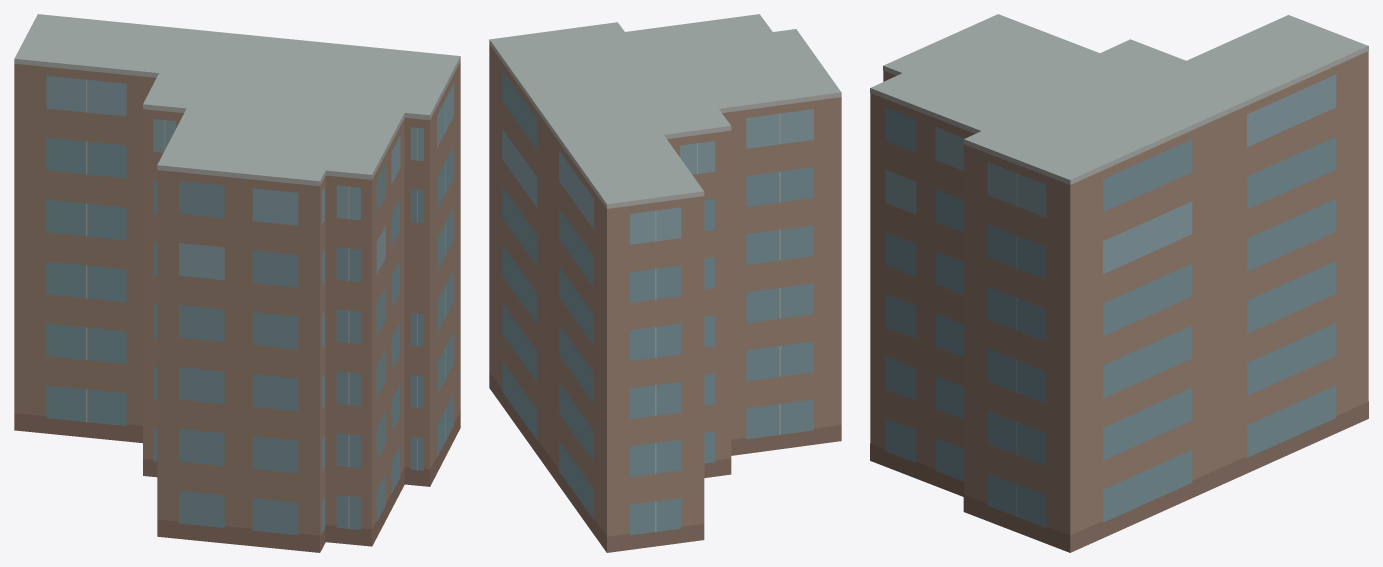
Rendered from survey-upis-32723243.glb.
The picture shows the model from 3 angles, left to right: view 1: azimuth 30°, elevation 25°; view 2: azimuth 150°, elevation 25°; view 3: azimuth 270°, elevation 25°; orthographic projection. The views are drawn at different scales.
Parts seen in each view (by area): view 1: survey-upis-32723243.tmp; view 2: survey-upis-32723243.tmp; view 3: survey-upis-32723243.tmp.
Part boxes in pixels (<box>): survey-upis-32723243.tmp: <box>14,14,460,552</box>; survey-upis-32723243.tmp: <box>489,14,841,552</box>; survey-upis-32723243.tmp: <box>870,14,1368,552</box>.
Size of the model in its own units: 17.5 by 18.3 by 22.19.
